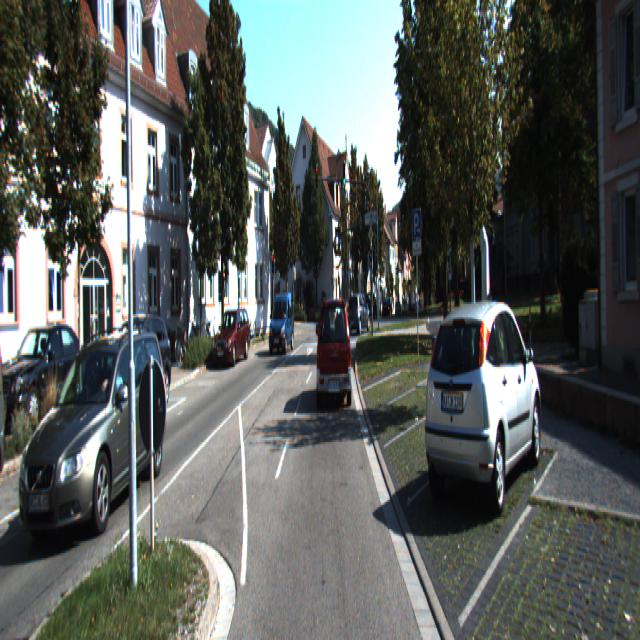Car: (12, 328, 173, 541), (422, 296, 544, 513), (0, 321, 93, 433), (96, 313, 173, 424), (318, 298, 354, 409), (212, 312, 252, 369), (268, 293, 294, 356), (347, 291, 371, 335), (366, 292, 378, 321)
